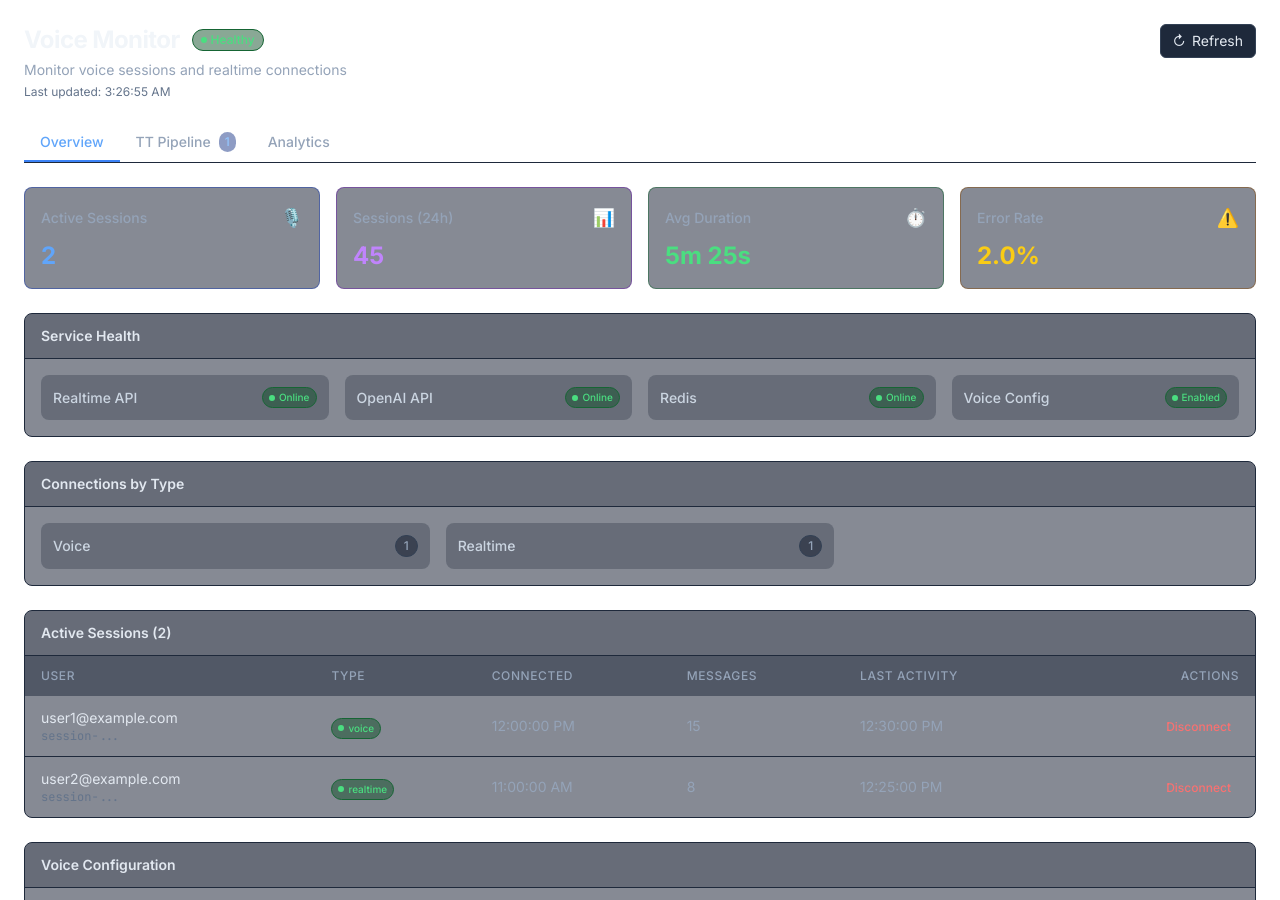
Test: VoiceMonitorPage › disconnect functionality › should close dialog when cancelled
Click the button "Disconnect" in the row of "user1@example.com": (1199, 727) [1158,715,1239,739]
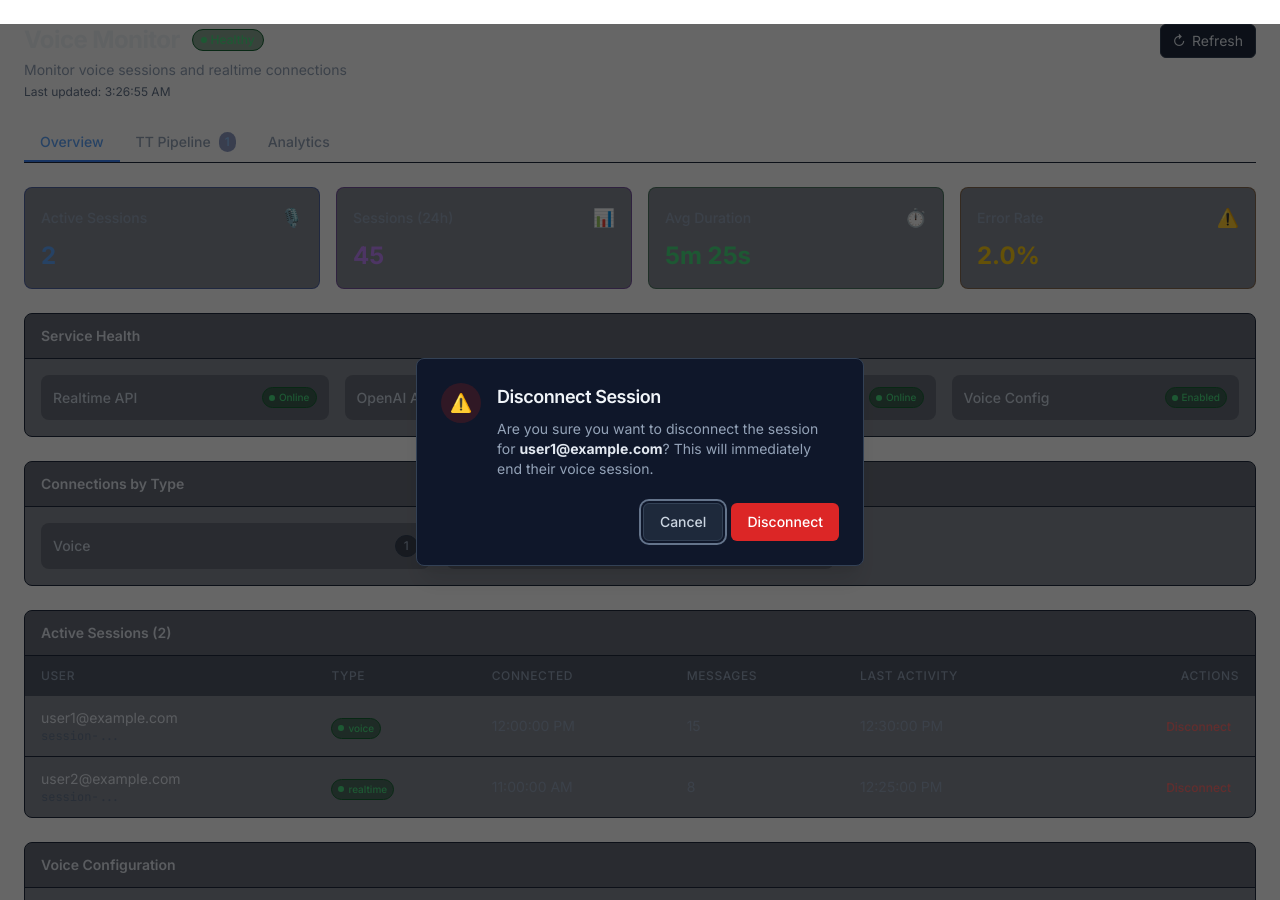
Check: the heading "Disconnect Session" is shown, box [497,386,661,407]
Note: Find and click cancel button
Click the button "Cancel": (683, 522) [643,503,723,541]
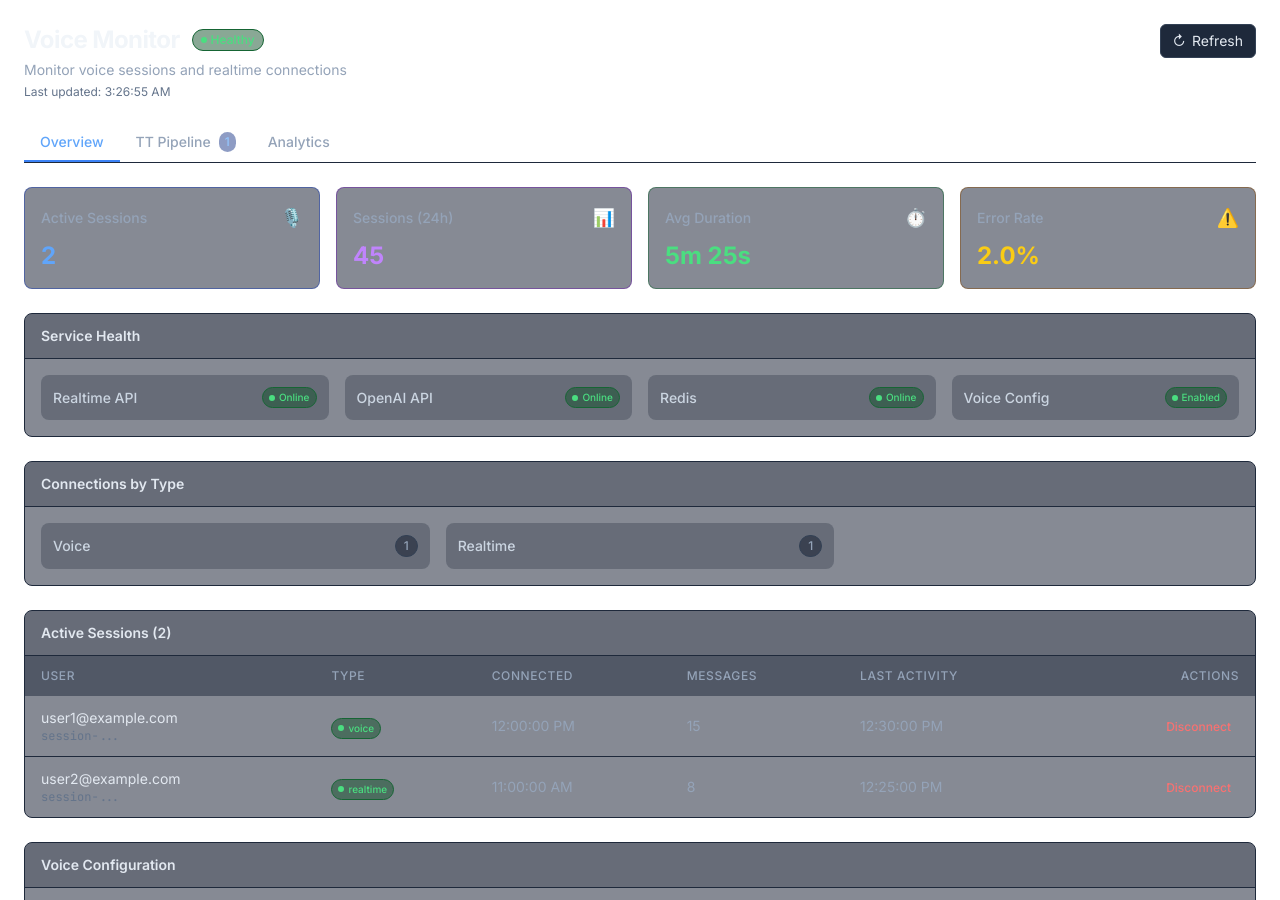
Check: the heading "Disconnect Session" is gone
